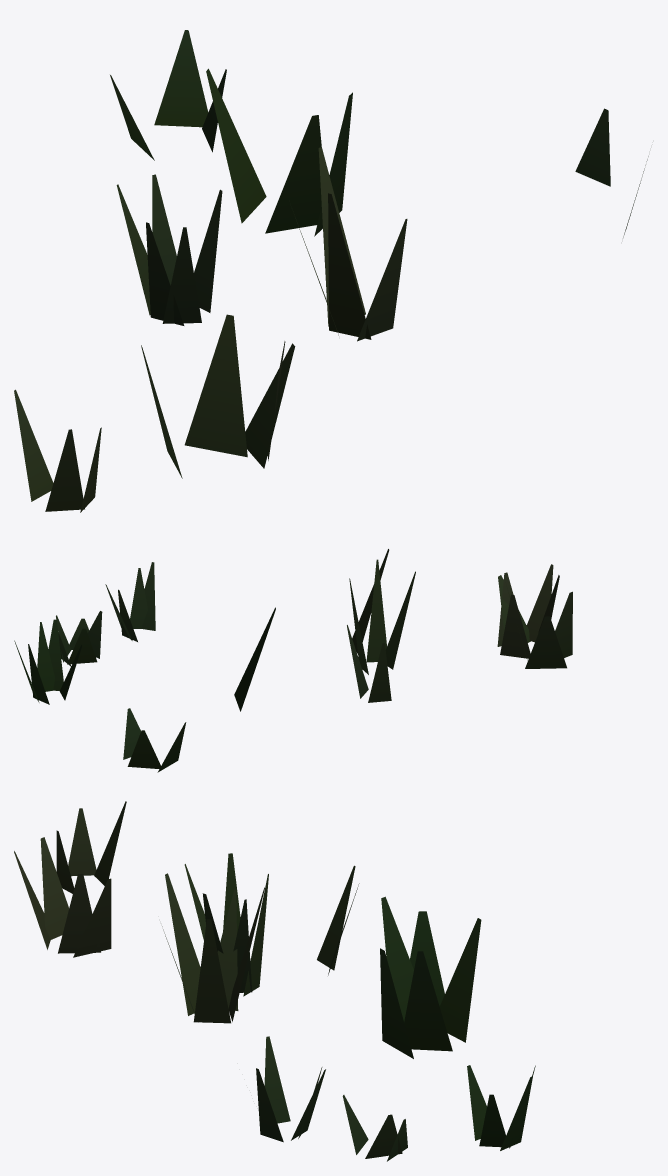
Rendered from grass_tuft_v2.glb.
3 renders of one model, top to bottom at view 1: azimuth 30°, elevation 25°; view 2: azimuth 150°, elevation 25°; view 3: azimuth 270°, elevation 25°, orthographic. The views are drawn at different scales.
Size of the model in its own units: 1 by 0.2193 by 0.9032.
